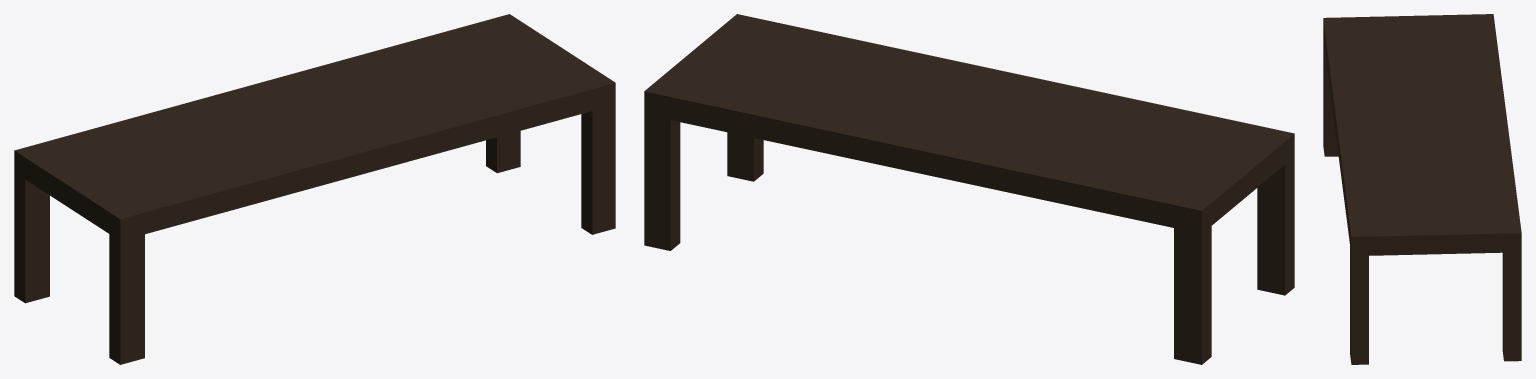
Rendered from Chair Bench2.fbx.
3 views of the same model, side by side, from view 1: azimuth 30°, elevation 25°; view 2: azimuth 150°, elevation 25°; view 3: azimuth 270°, elevation 25° (orthographic). The views are drawn at different scales.
Parts seen in each view (by area): view 1: Cube.140; view 2: Cube.140; view 3: Cube.140.
Boxes of the visible parts, x1,y1,x2,y2 form: Cube.140: [14, 14, 615, 364]; Cube.140: [644, 14, 1294, 364]; Cube.140: [1323, 14, 1521, 364].
Bounding box in the file's own units: 203 × 54.37 × 76.41.
